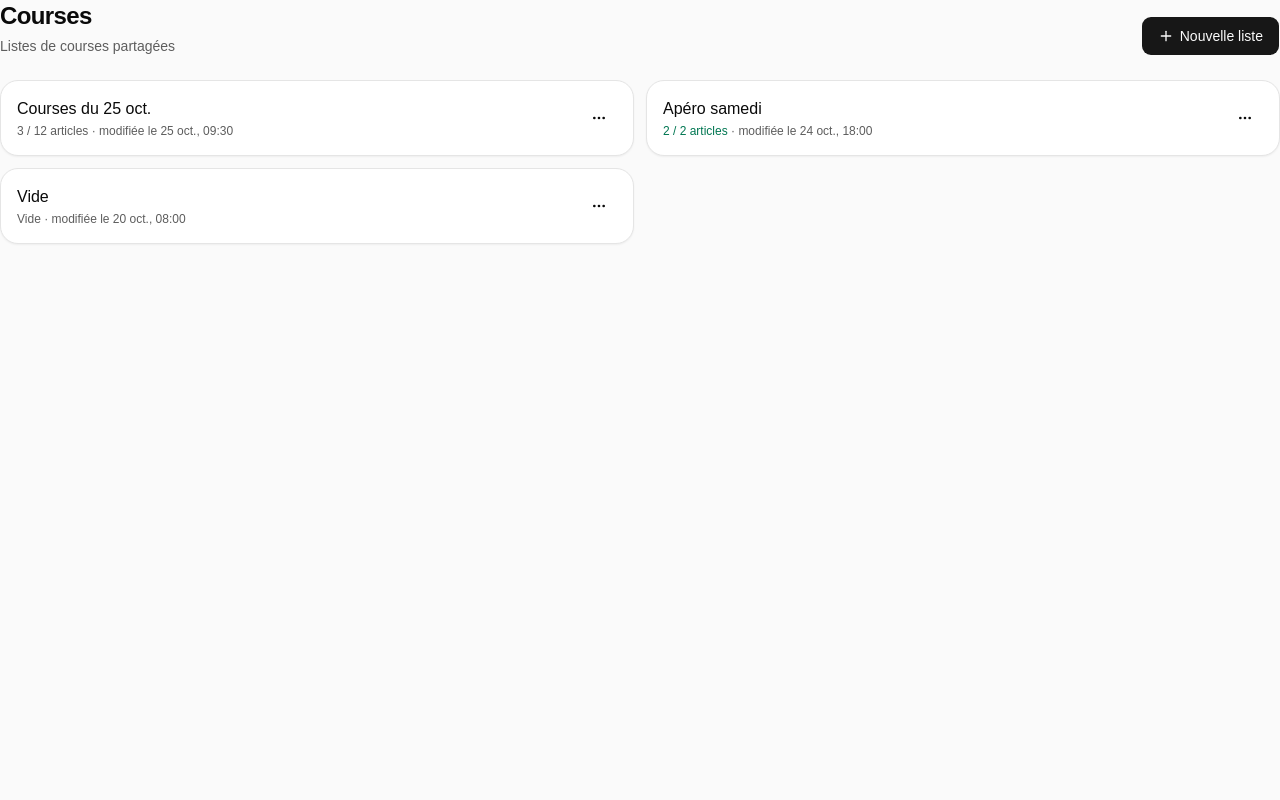
Test: ShoppingListsPage › renomme et supprime une liste
This screenshot has width=1280, height=800.
Click the button named "Actions pour « Apéro samedi »" at (1245, 118), box [1227,100,1263,136]
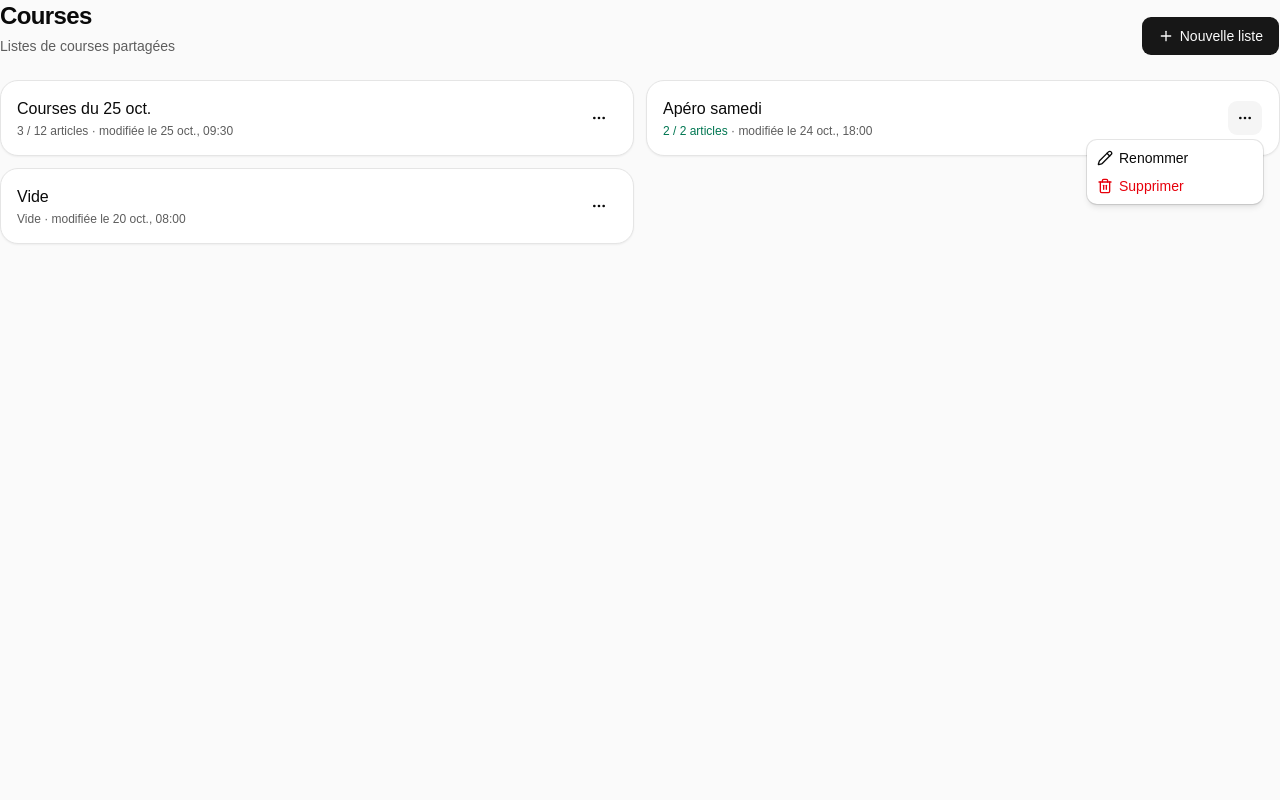
Click the menu item "Renommer" at (1143, 158), box [1097,150,1188,166]
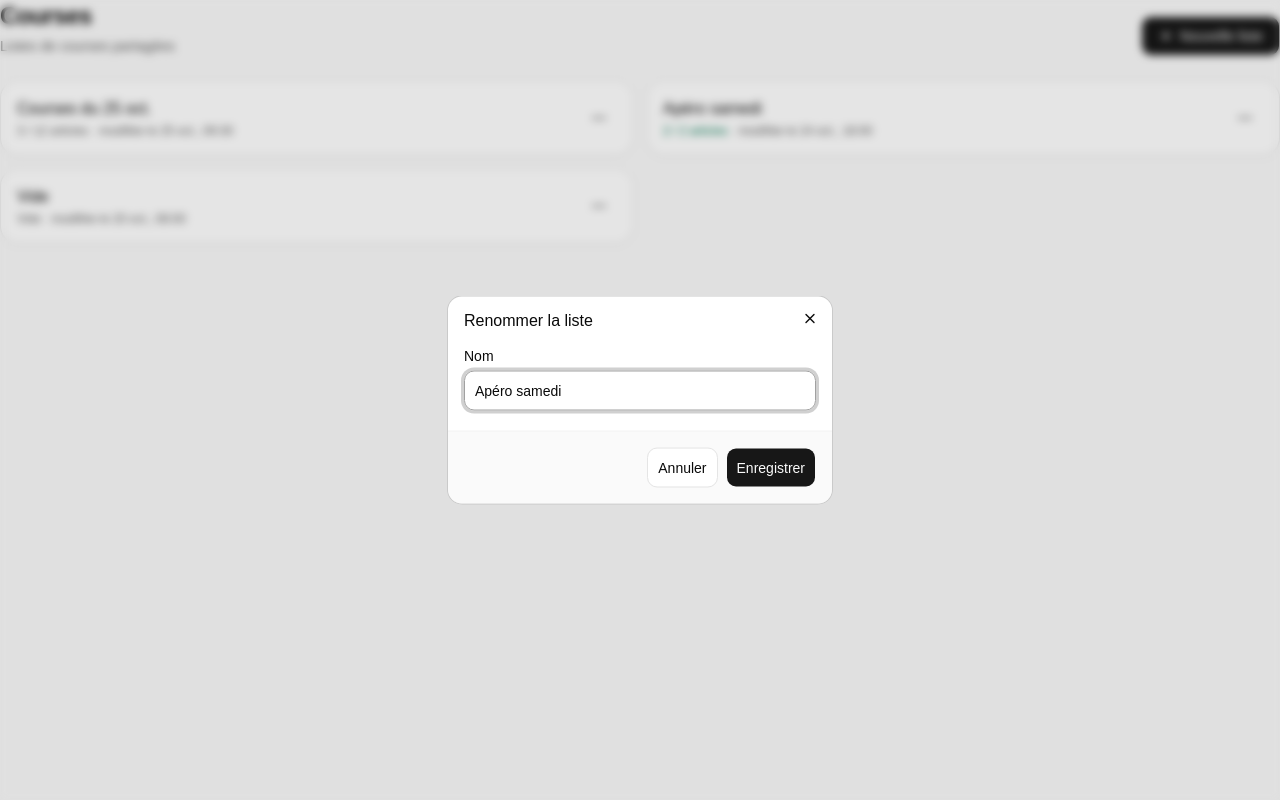
Replace the text in the field labelled "Nom" with "Apéro dimanche" at (640, 390), box [464,370,816,410]
Click the button "Enregistrer" at (771, 468), box [726,448,816,488]
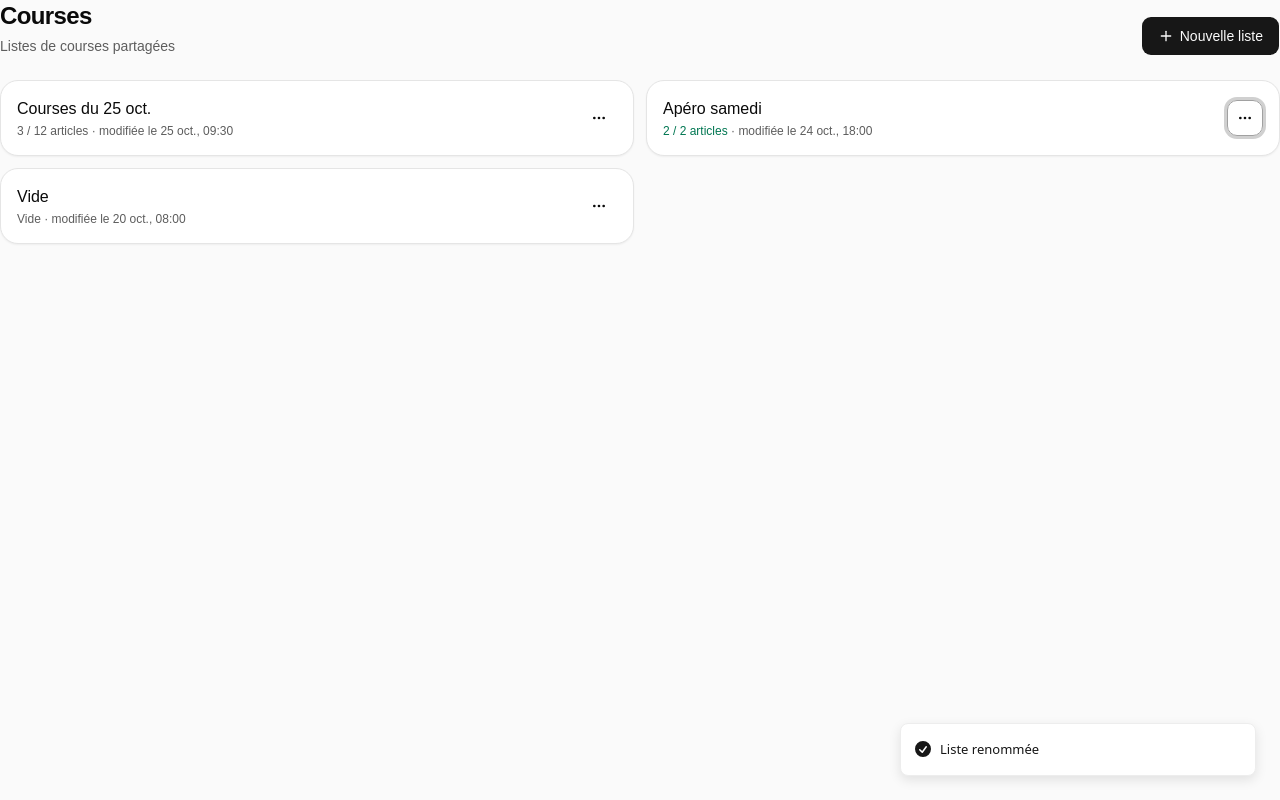
Now the text "Liste renommée" is shown, box [940,740,1039,759]
Click the button named "Actions pour « Courses du 25 oct. »" at (599, 118), box [581,100,617,136]
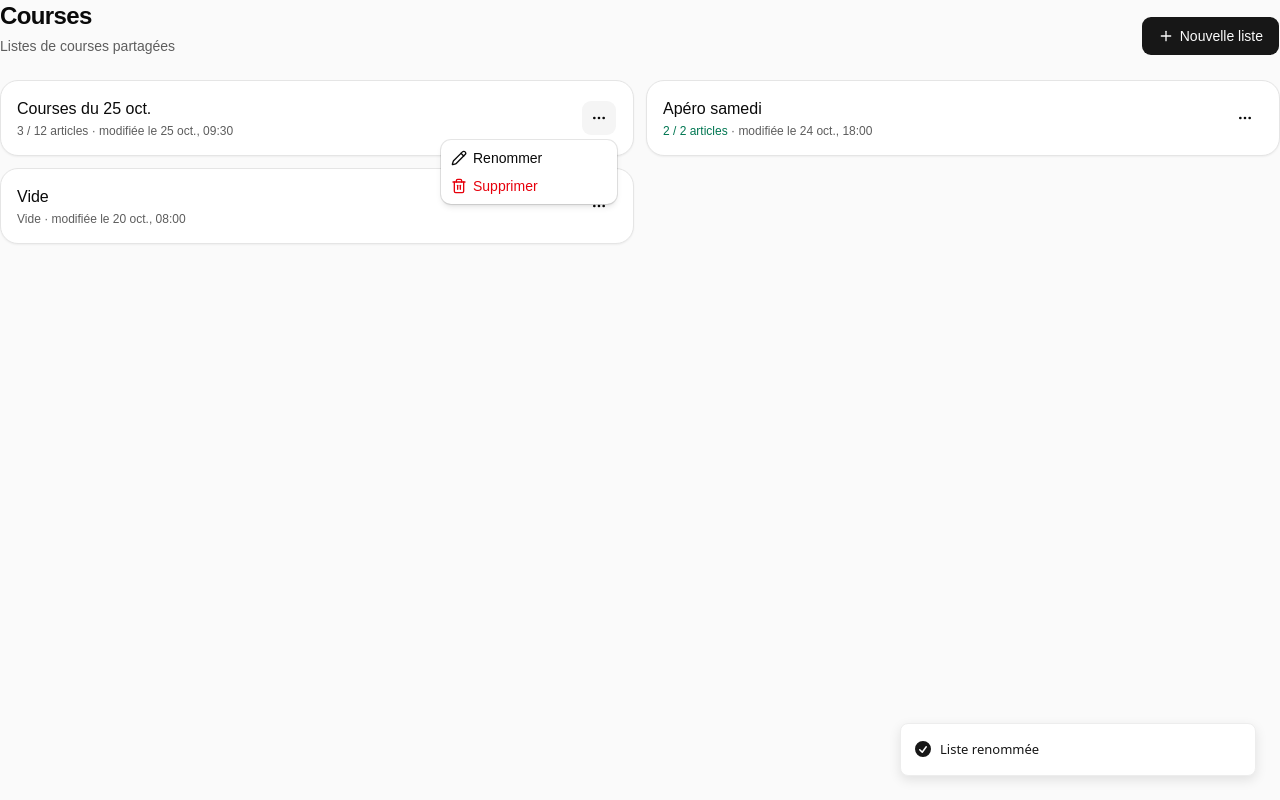
Click the menu item "Supprimer" at (494, 186), box [451,178,538,194]
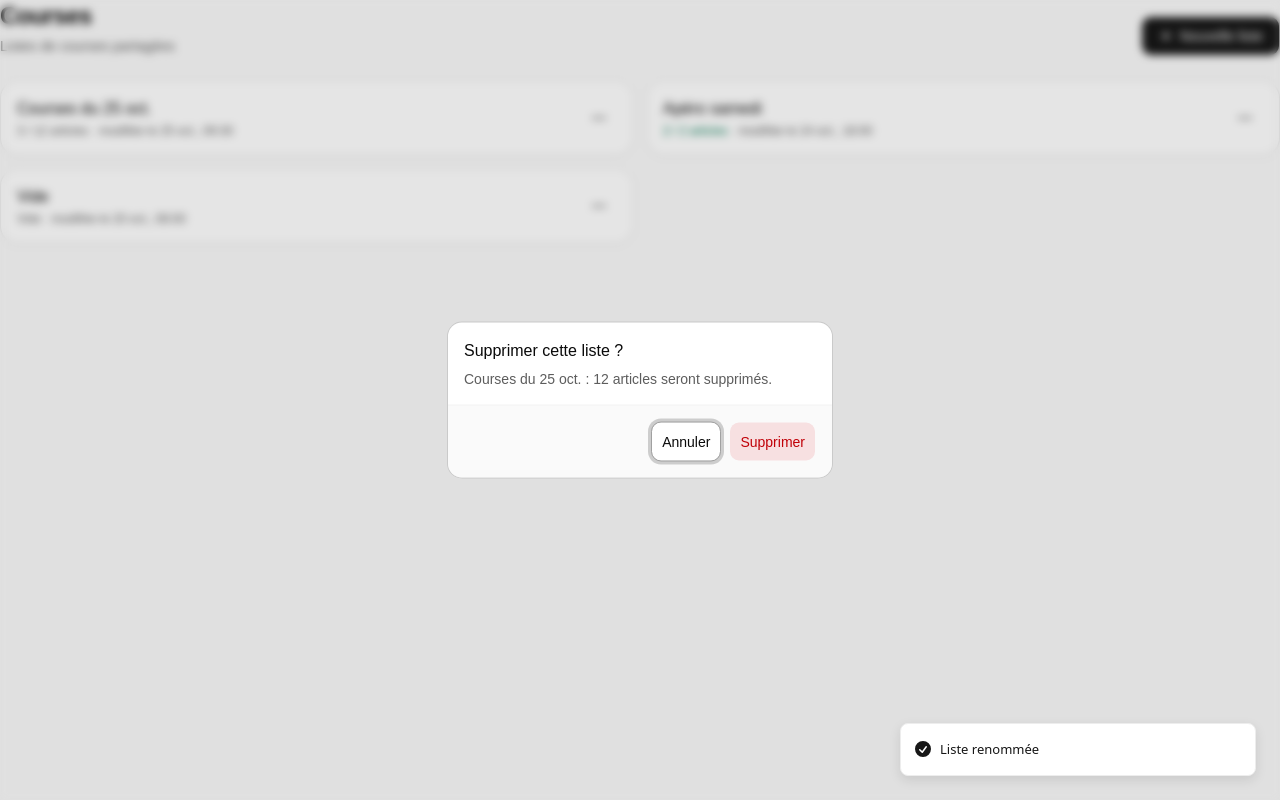
Now the dialog shows "Courses du 25 oct. : 12 articles seront supprimés.", box [464,370,772,386]
Click the button "Supprimer" at (773, 442), box [729,422,816,462]
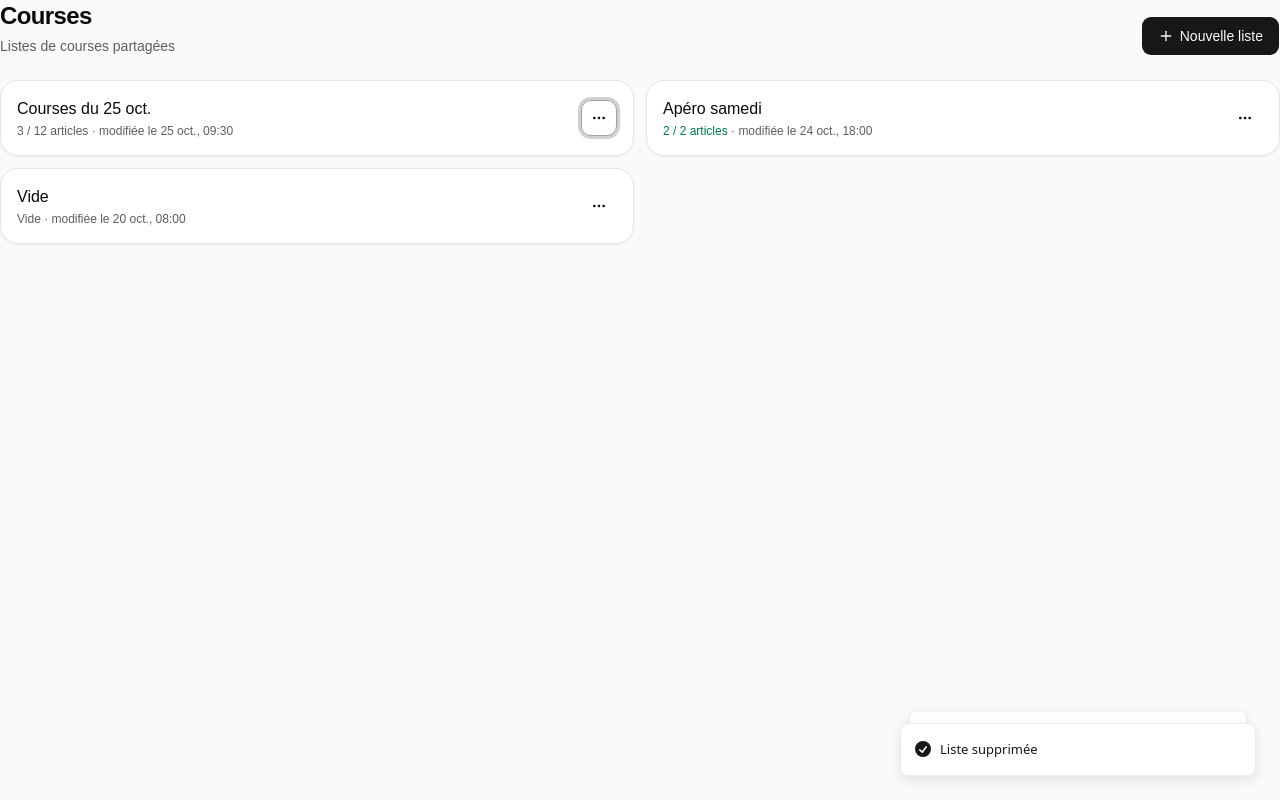
Now the text "Liste supprimée" is shown, box [940,740,1038,759]
